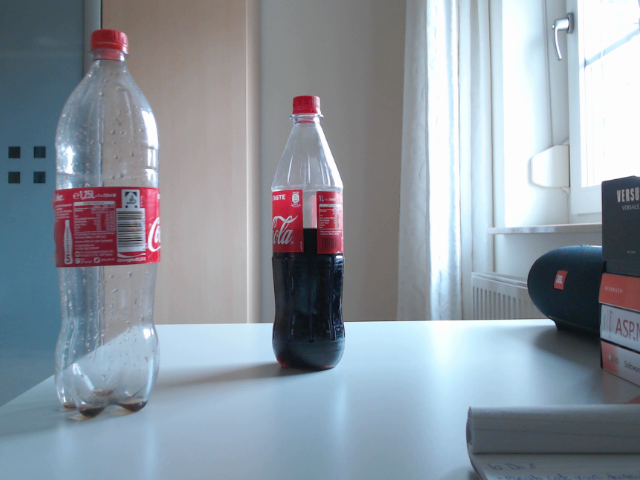bottle: (54, 29, 159, 420), (270, 95, 346, 371)
